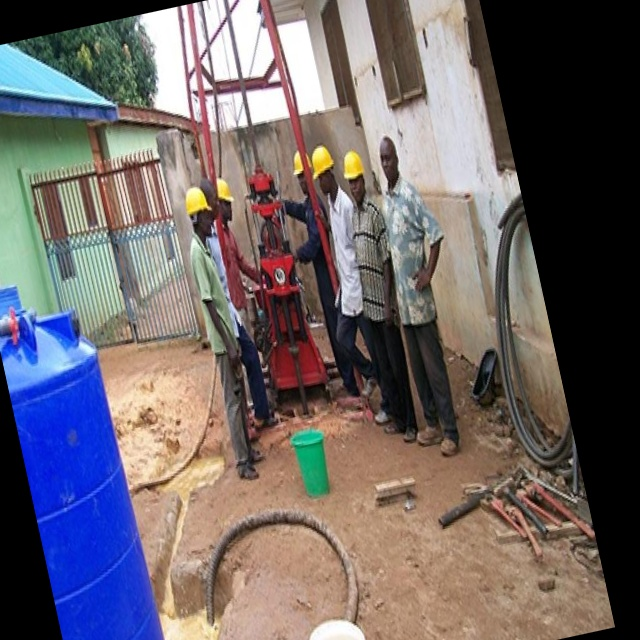Con_Casco: (307, 143, 340, 199), (183, 186, 216, 238), (339, 150, 368, 198)
Sin_Casco_Mascarrilla: (374, 133, 404, 187)
Sin_Chaleco: (377, 187, 440, 305), (343, 200, 399, 322)
